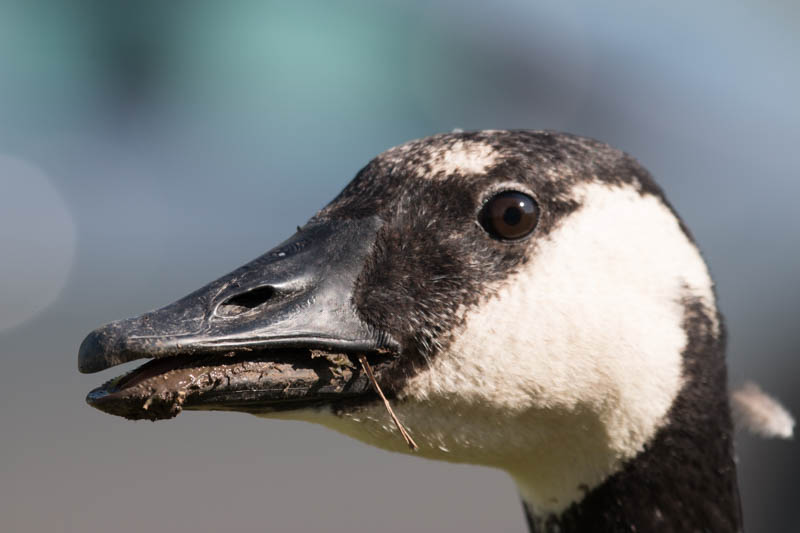goose-head: (77, 128, 730, 477)
